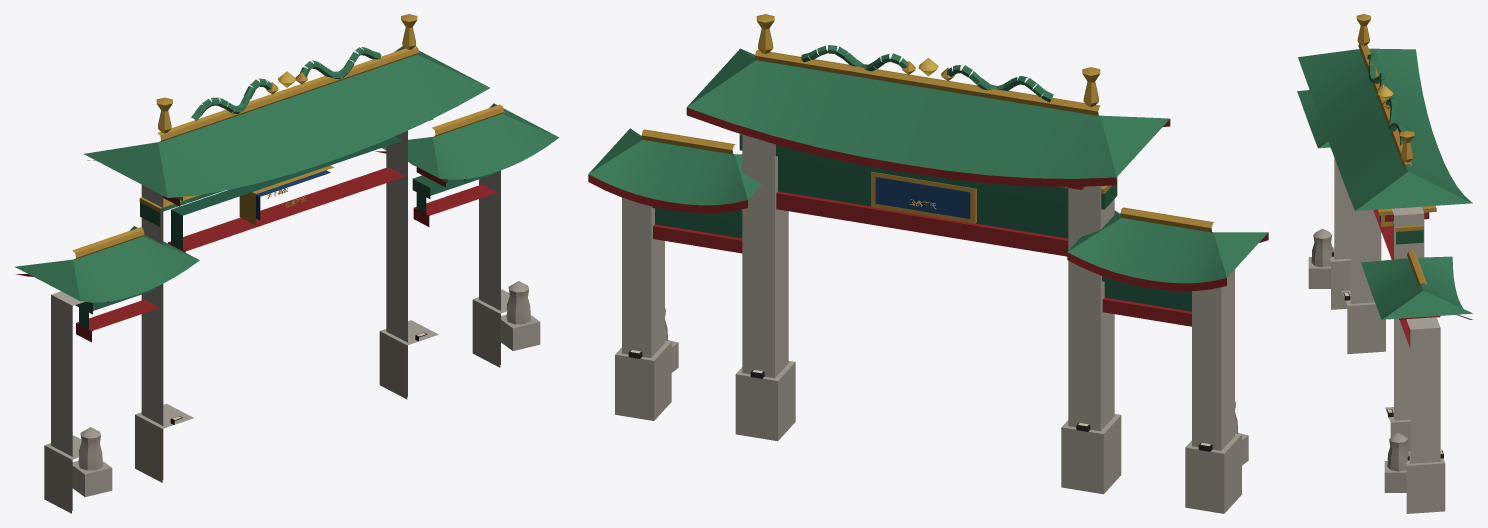
File: ct_gate_lod0.glb
The picture shows the model from 3 angles, left to right: view 1: azimuth 30°, elevation 25°; view 2: azimuth 150°, elevation 25°; view 3: azimuth 270°, elevation 25°; orthographic projection. The views are drawn at different scales.
Visible parts, largest first — view 1: L0_rooftile, L0_stone, L0_paint, L0_d_gold, L0_d_paint, L0_d_stone; view 2: L0_rooftile, L0_stone, L0_paint, L0_d_paint, L0_d_gold; view 3: L0_rooftile, L0_stone, L0_d_gold, L0_d_stone, L0_d_paint, L0_paint.
Part boxes in pixels (<box>): L0_rooftile: <box>14,46,559,302</box>; L0_stone: <box>44,130,540,513</box>; L0_paint: <box>75,119,497,342</box>; L0_d_gold: <box>72,14,503,259</box>; L0_d_paint: <box>16,47,465,302</box>; L0_d_stone: <box>78,281,530,470</box>; L0_rooftile: <box>588,48,1267,283</box>; L0_stone: <box>615,134,1248,513</box>; L0_paint: <box>652,135,1191,326</box>; L0_d_paint: <box>588,45,1268,291</box>; L0_d_gold: <box>641,14,1214,232</box>; L0_rooftile: <box>1297,48,1473,319</box>; L0_stone: <box>1308,158,1445,513</box>; L0_d_gold: <box>1356,14,1427,287</box>; L0_d_stone: <box>1311,228,1409,471</box>; L0_d_paint: <box>1367,52,1472,319</box>; L0_paint: <box>1373,209,1423,348</box>.
Bounding box in the file's own units: 19.88 × 13.05 × 6.33.
